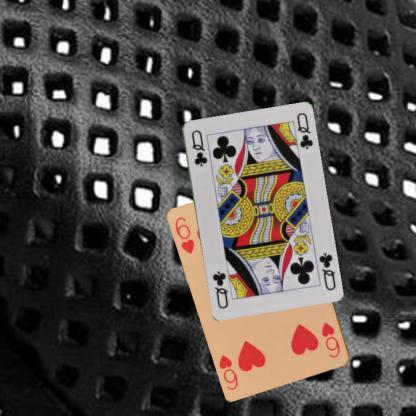6h: (173, 214, 196, 255), (319, 319, 341, 360)
Qc: (316, 249, 337, 292), (188, 127, 209, 168)
